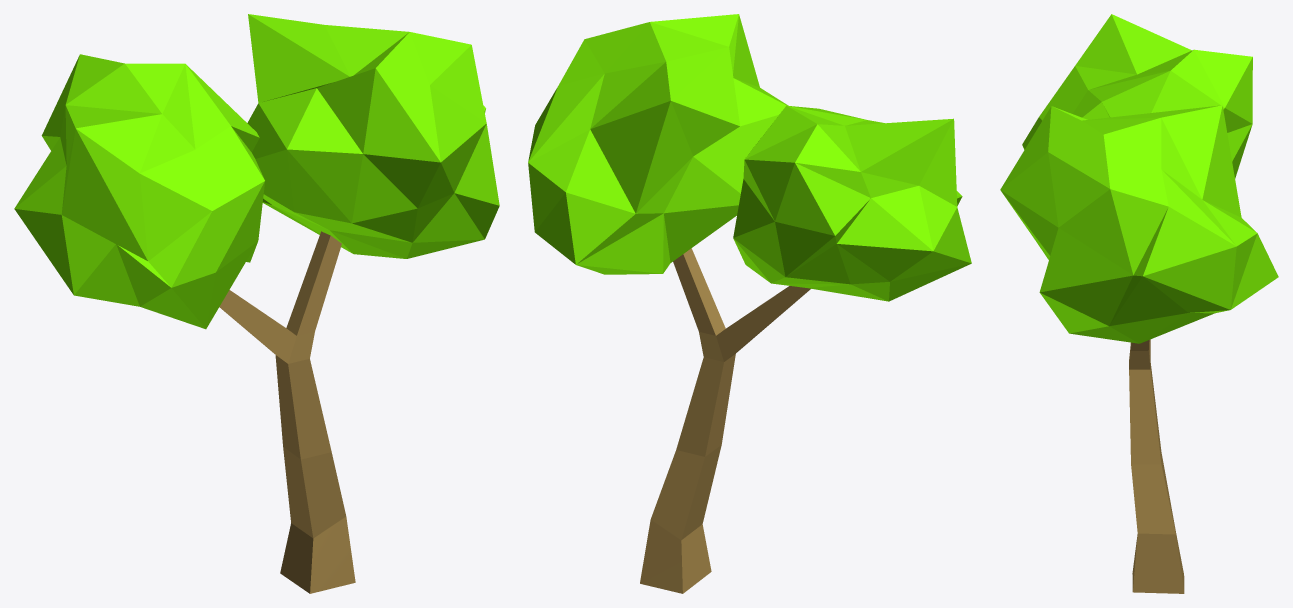
File: tree1.gltf
3 renders of one model, left to right at view 1: azimuth 30°, elevation 25°; view 2: azimuth 150°, elevation 25°; view 3: azimuth 270°, elevation 25°, orthographic. The views are drawn at different scales.
Visible parts, largest first — view 1: Tree_1; view 2: Tree_1; view 3: Tree_1.
Part boxes in pixels (bbox=[...]): Tree_1: bbox=[14, 14, 499, 593]; Tree_1: bbox=[528, 14, 971, 593]; Tree_1: bbox=[1000, 14, 1278, 593].
Size of the model in its own units: 26.62 by 31.64 by 16.77.
